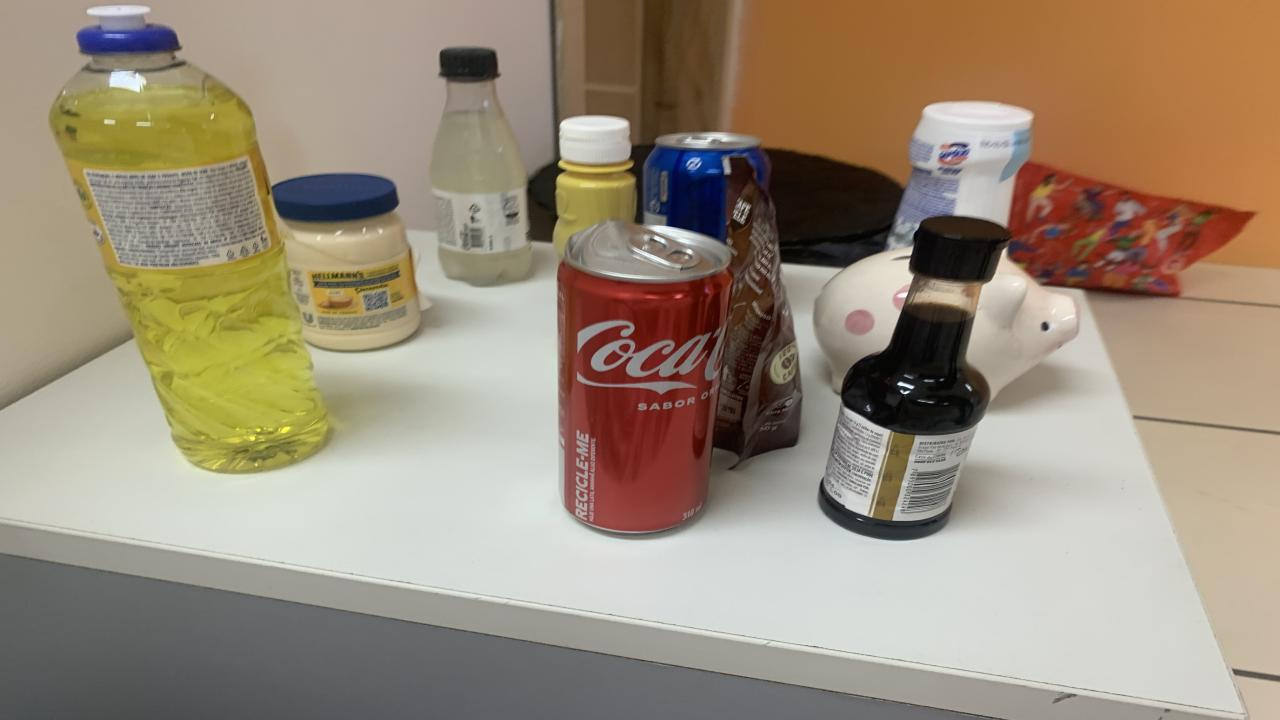Cleaner-Cleanup_Items: (888, 101, 1032, 249)
Coffee-Pantry_Items: (715, 156, 802, 461)
Coke-Drinks: (558, 219, 732, 534)
Detergent-Cleanup_Items: (50, 6, 328, 472)
English_Sauce-Pantry_Items: (818, 216, 1010, 540)
Mayonnaise-Pantry_Items: (272, 172, 420, 351)
Mustard-Pantry_Items: (552, 114, 635, 257)
Pig_Safe-Miscellaneous: (968, 255, 1080, 398), (812, 248, 912, 392)
Soda-Drinks: (430, 47, 530, 285)
Tonic-Drinks: (642, 131, 770, 242)
